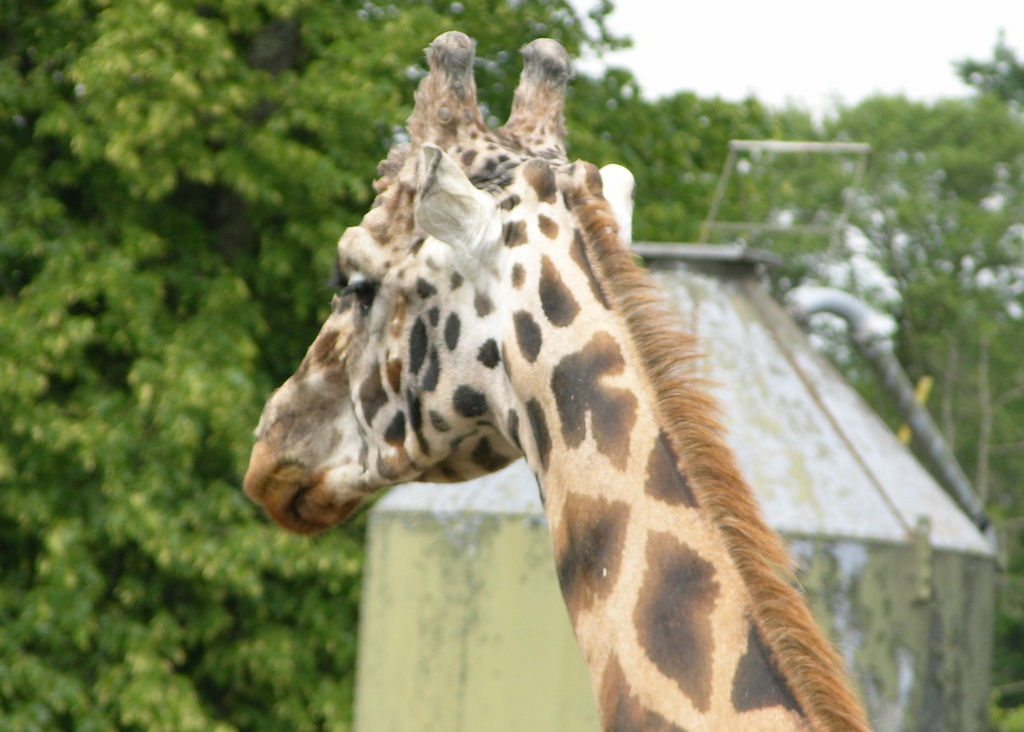giraffe: (242, 23, 817, 698)
